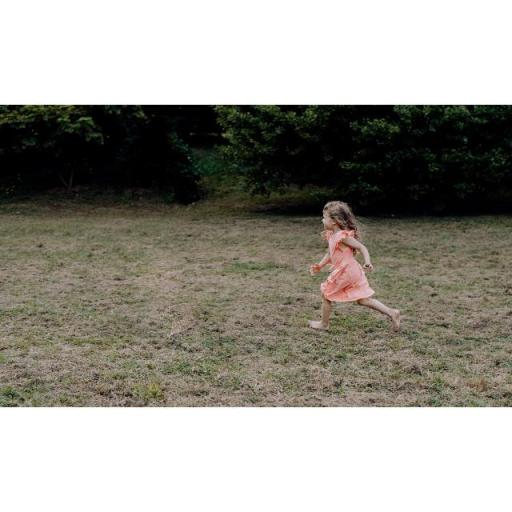Running: (300, 194, 410, 342)
